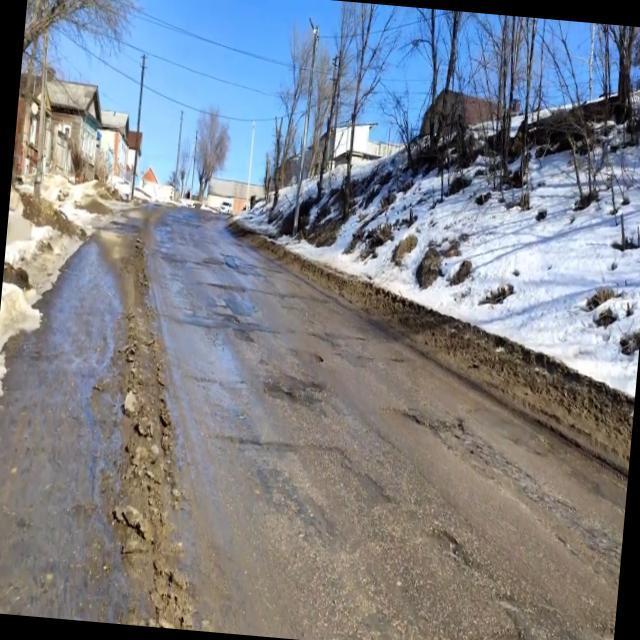Pothole: (422, 514, 464, 570), (258, 369, 308, 414), (439, 409, 472, 452), (493, 622, 527, 640), (309, 349, 326, 366)
